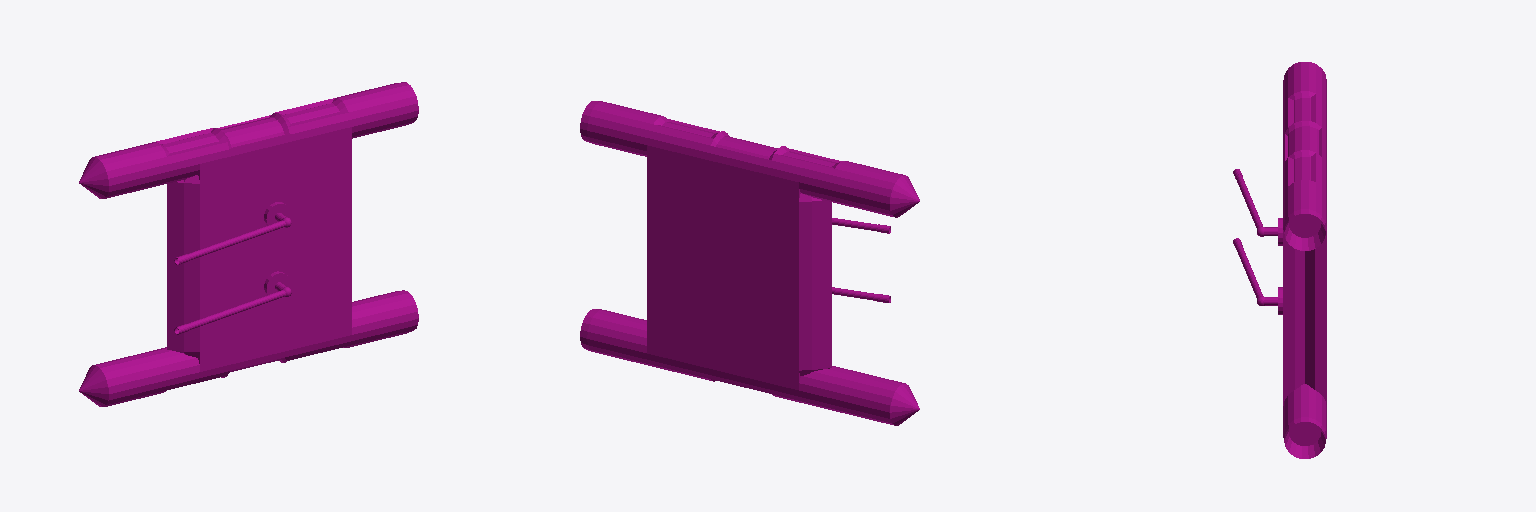
Rendered from NPC.obj.
3 views of the same model, side by side, from view 1: azimuth 30°, elevation 25°; view 2: azimuth 150°, elevation 25°; view 3: azimuth 270°, elevation 25° (orthographic).
Parts seen in each view (by area): view 1: BodyShipRechtsDeel; view 2: BodyShipRechtsDeel; view 3: BodyShipRechtsDeel.
Boxes of the visible parts, <box> form: BodyShipRechtsDeel: <box>79,82,418,406</box>; BodyShipRechtsDeel: <box>580,101,919,425</box>; BodyShipRechtsDeel: <box>1233,62,1326,458</box>.
Bounding box in the file's own units: 172 × 123 × 42.3.